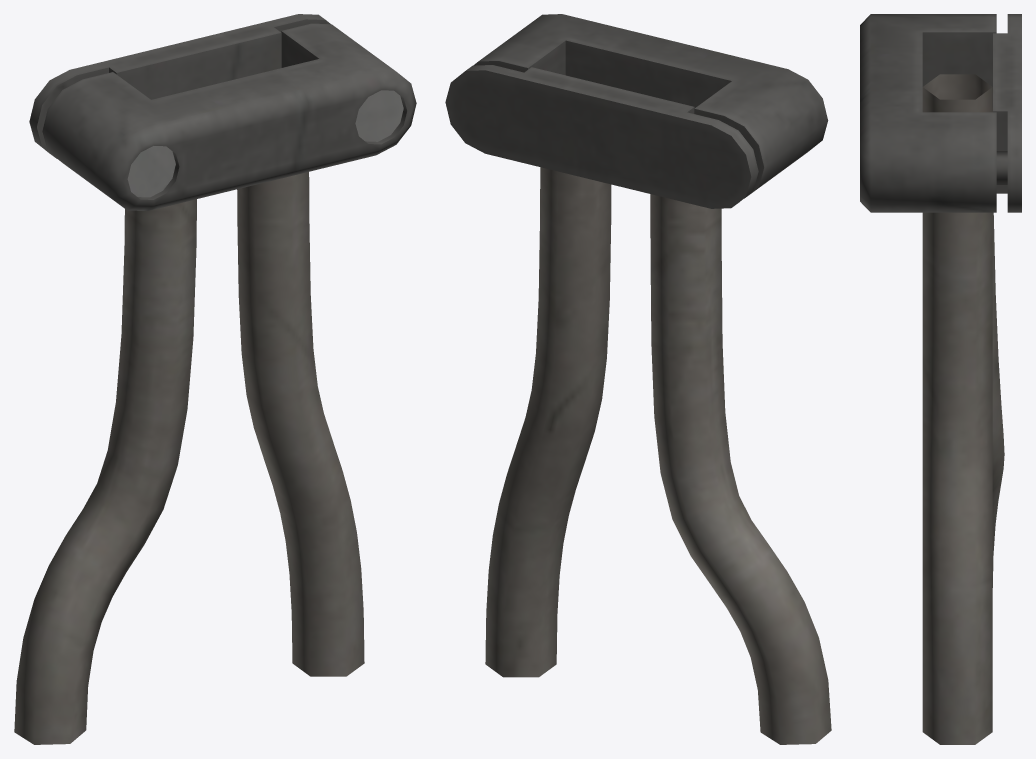
The model's file is cable_to_double_2.glb.
3 renders of one model, left to right at view 1: azimuth 30°, elevation 25°; view 2: azimuth 150°, elevation 25°; view 3: azimuth 270°, elevation 25°, orthographic. The views are drawn at different scales.
Parts seen in each view (by area): view 1: cable_to_double_2.001; view 2: cable_to_double_2.001; view 3: cable_to_double_2.001.
Boxes of the visible parts, bbox=[...] form: cable_to_double_2.001: bbox=[14, 14, 416, 744]; cable_to_double_2.001: bbox=[445, 14, 831, 744]; cable_to_double_2.001: bbox=[860, 14, 1021, 744].
Bounding box in the file's own units: 0.0628 × 0.1073 × 0.0259.
1 material, 1 textured.
